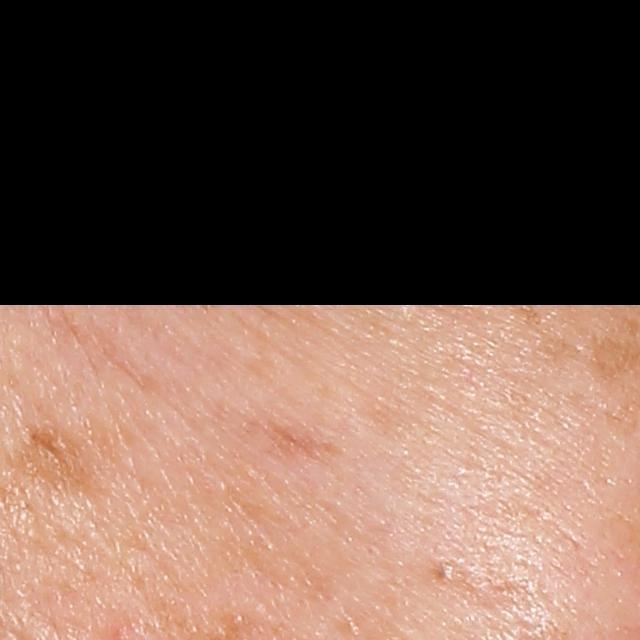melasma: (16, 421, 130, 500), (501, 289, 552, 331)
